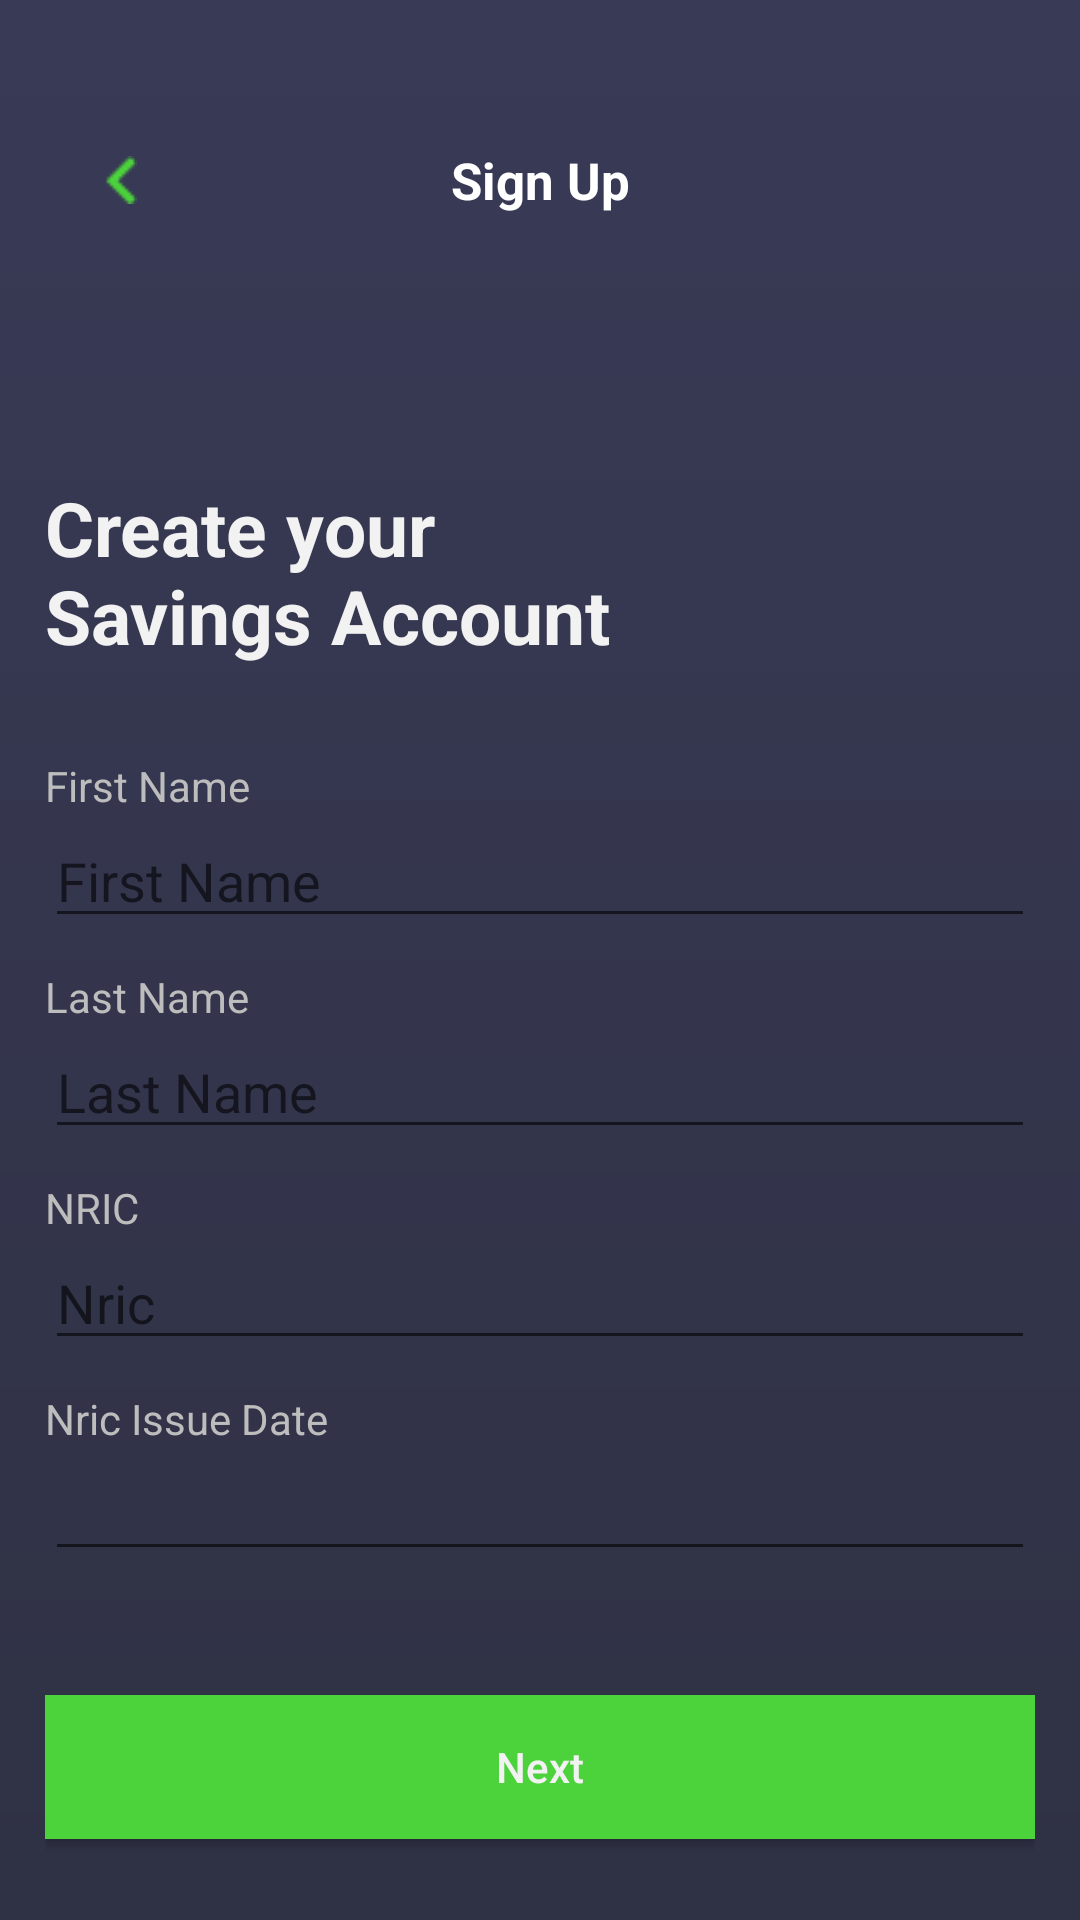

Screen size 1080w x 1920h. Icon name, then its box in pixels as (x1, y1, x2, y2):
chevronleft: (106, 156, 137, 204)
